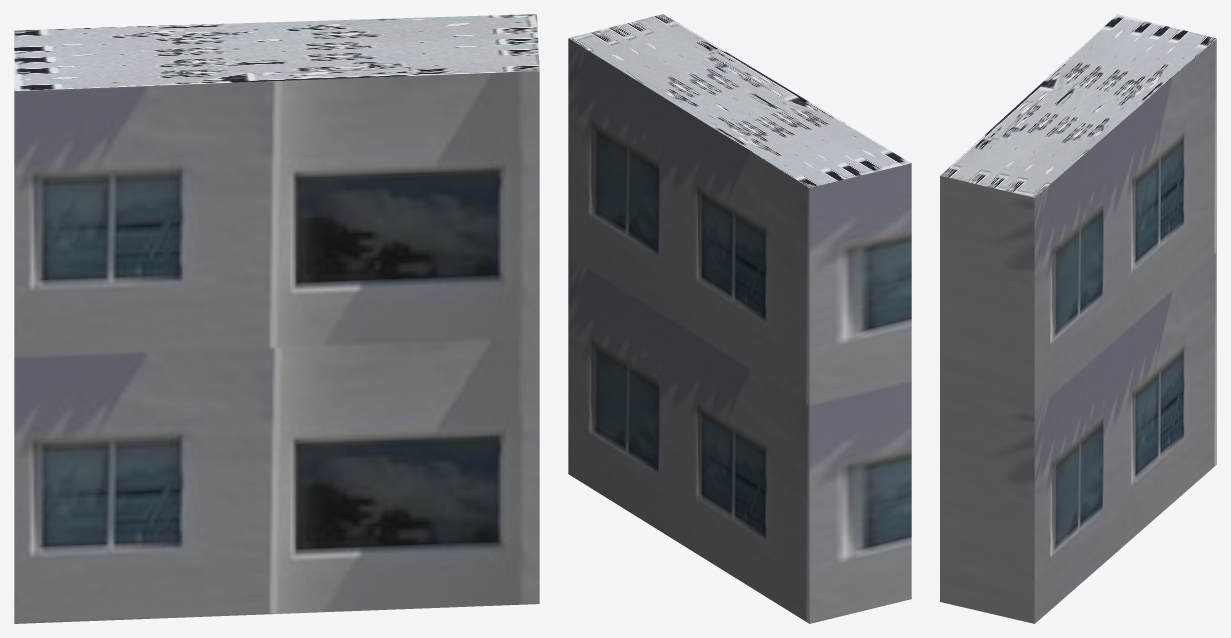
File: ResTex__4066.fbx
3 views of the same model, side by side, from view 1: azimuth 30°, elevation 25°; view 2: azimuth 150°, elevation 25°; view 3: azimuth 270°, elevation 25° (orthographic). The views are drawn at different scales.
Parts seen in each view (by area): view 1: CityEngineMaterial_10_m, CityEngineMaterial_8_m; view 2: CityEngineMaterial_10_m, CityEngineMaterial_8_m; view 3: CityEngineMaterial_10_m, CityEngineMaterial_8_m.
Part boxes in pixels (left/top/right/bottom): CityEngineMaterial_10_m: left=14, top=71, right=539, bottom=623; CityEngineMaterial_8_m: left=14, top=14, right=539, bottom=90; CityEngineMaterial_10_m: left=568, top=38, right=911, bottom=623; CityEngineMaterial_8_m: left=569, top=14, right=911, bottom=187; CityEngineMaterial_10_m: left=940, top=38, right=1216, bottom=623; CityEngineMaterial_8_m: left=940, top=14, right=1216, bottom=197.
Size of the model in its own units: 5.55 by 6 by 3.53.
2 materials, 2 textured.
